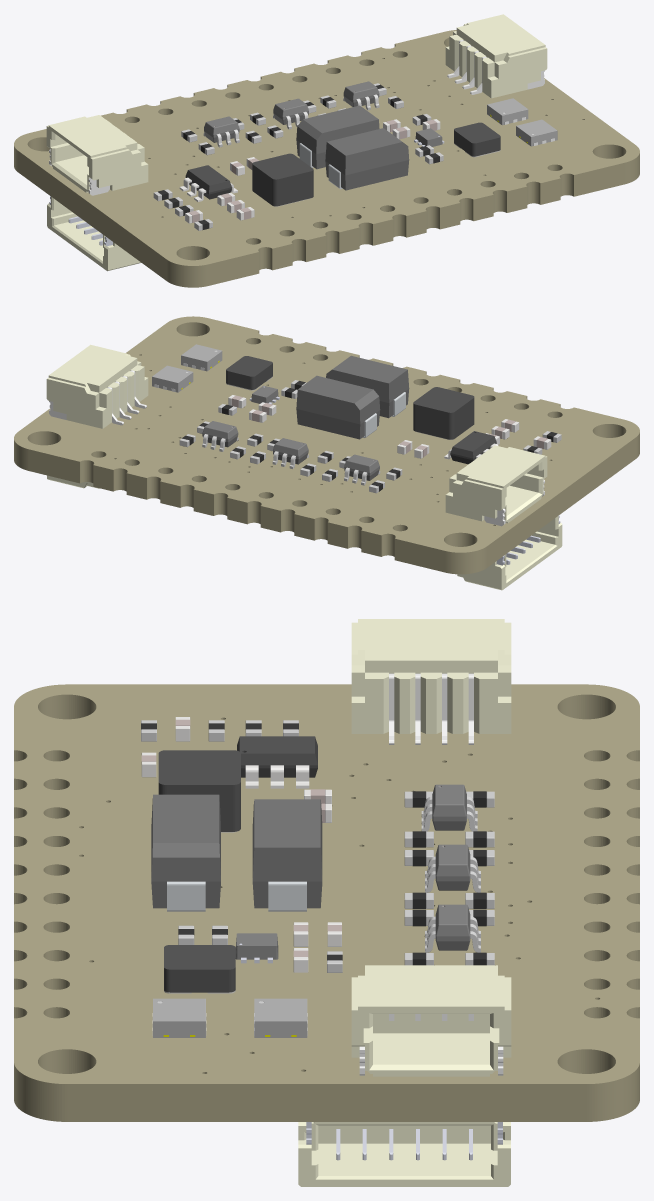
The model's file is UE0106 - Convertidor QWIIC V1.glb.
3 views of the same model, one above another, from view 1: azimuth 30°, elevation 25°; view 2: azimuth 150°, elevation 25°; view 3: azimuth 270°, elevation 25° (orthographic). The views are drawn at different scales.
Visible parts, largest first — view 1: Node1, Node7, Node11, Node13, Node5, Node16, Node8, Node14, Node17, Node2, Node15, Node6 (+2 smaller); view 2: Node1, Node7, Node11, Node13, Node5, Node16, Node8, Node14, Node2, Node17, Node15, Node6 (+2 smaller); view 3: Node1, Node7, Node11, Node13, Node5, Node16, Node8, Node17, Node14, Node12, Node2, Node6 (+2 smaller).
Part boxes in pixels (x1,y1,x2,y2): Node1: [14, 30, 639, 287]; Node7: [46, 14, 547, 271]; Node11: [296, 105, 409, 190]; Node13: [185, 122, 500, 206]; Node5: [204, 81, 442, 146]; Node16: [153, 83, 443, 230]; Node8: [487, 98, 557, 146]; Node14: [179, 119, 440, 223]; Node17: [158, 84, 439, 229]; Node2: [49, 40, 554, 195]; Node15: [188, 119, 437, 222]; Node6: [203, 94, 379, 147]; Node1: [14, 316, 639, 574]; Node7: [46, 344, 562, 590]; Node11: [296, 355, 409, 439]; Node13: [226, 356, 496, 464]; Node5: [202, 385, 379, 480]; Node16: [179, 380, 561, 493]; Node8: [152, 344, 222, 392]; Node14: [228, 395, 551, 459]; Node2: [49, 363, 544, 526]; Node17: [182, 381, 557, 491]; Node15: [231, 395, 547, 457]; Node6: [202, 434, 380, 485]; Node1: [14, 684, 639, 1121]; Node7: [298, 619, 511, 1186]; Node11: [151, 794, 322, 908]; Node13: [158, 736, 317, 992]; Node5: [235, 784, 470, 959]; Node16: [141, 720, 494, 972]; Node8: [153, 998, 307, 1037]; Node17: [141, 723, 486, 965]; Node14: [141, 717, 341, 972]; Node12: [167, 881, 306, 911]; Node2: [152, 673, 503, 1075]; Node6: [421, 796, 480, 952].
Bounding box in the file's own units: 35.56 × 7.48 × 23.54.
